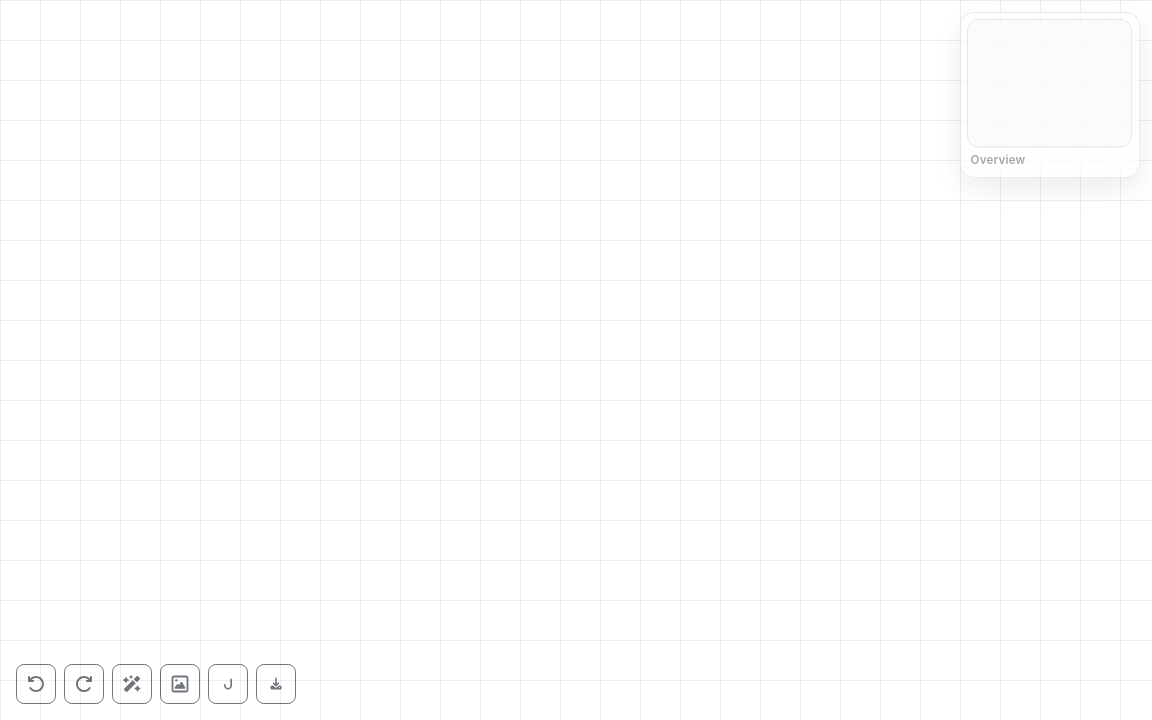
Test: MapCanvas export flow › opens the export dialog from the header button
Click the button named "Export PNG": click(276, 684) [256,664,296,704]
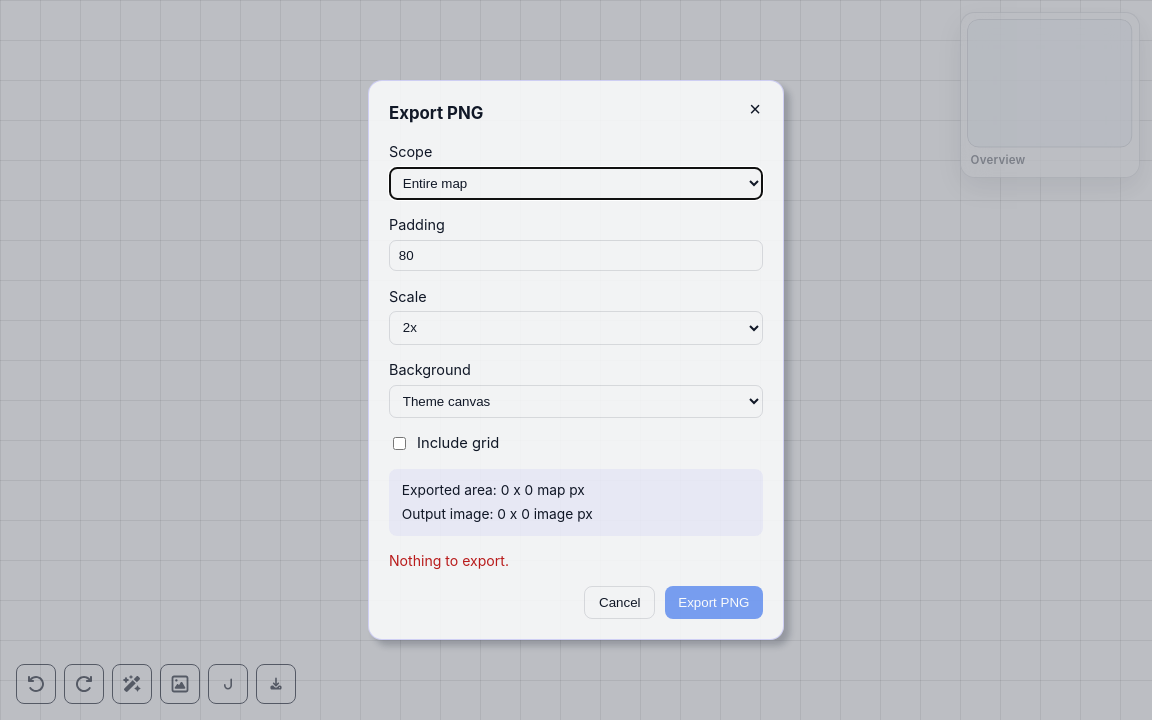
Check: the dialog with test id "export-png-dialog" is shown, box [368,80,784,640]
